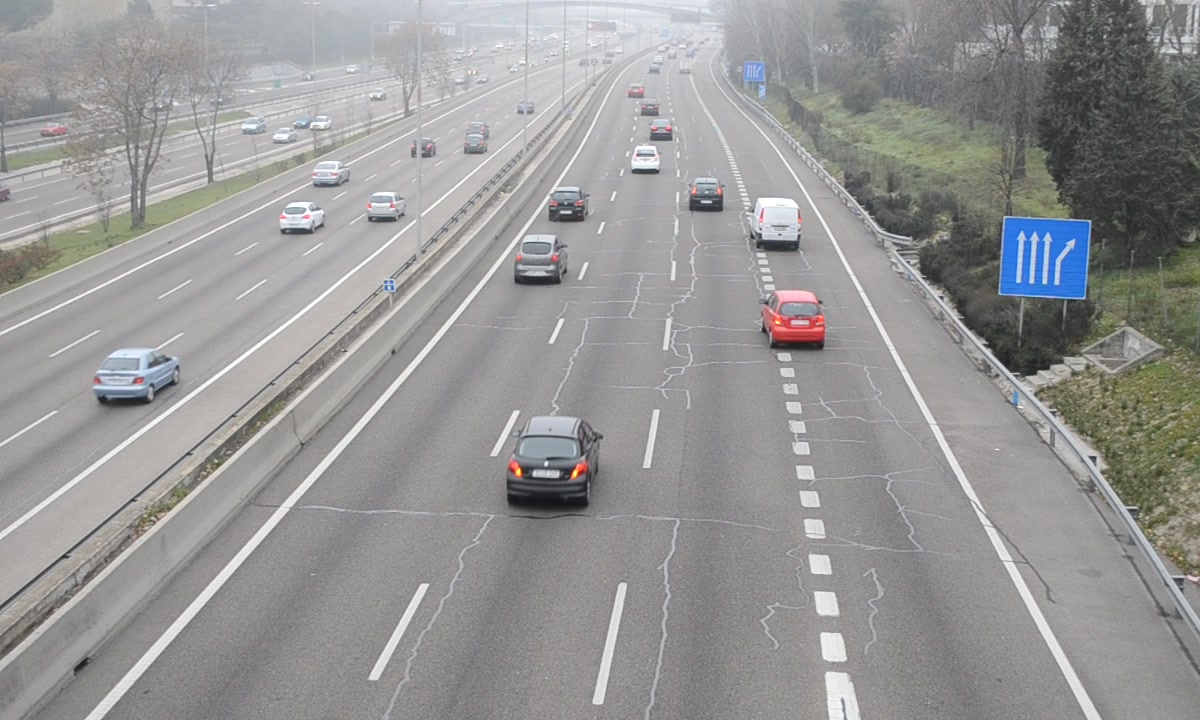car: (506, 417, 599, 502), (765, 288, 824, 345), (513, 234, 566, 279), (547, 187, 591, 224), (687, 177, 725, 212), (629, 141, 663, 173), (648, 118, 672, 139)
van: (753, 198, 801, 249)
